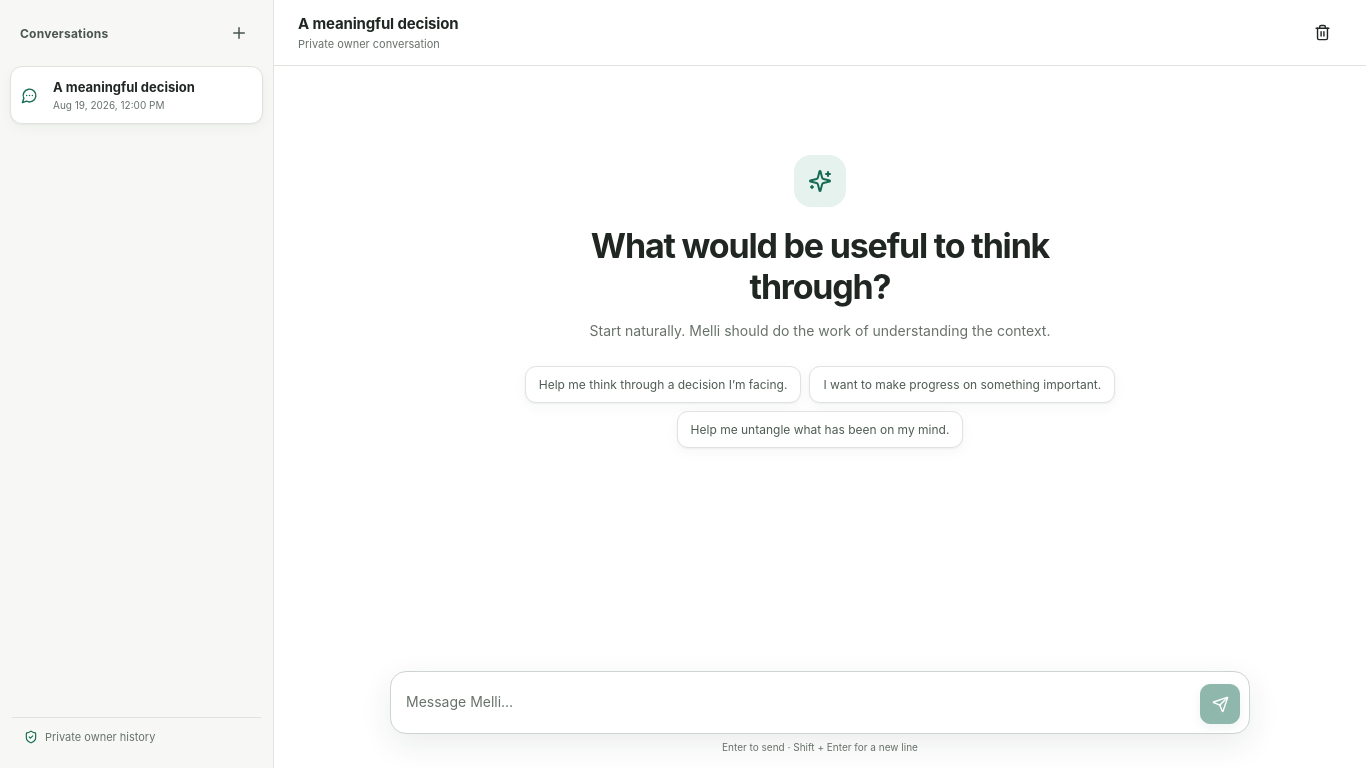
Test: ConversationPage › opens ready for a real job without teaching the fixture or runtime
The width and height of the screenshot is (1366, 768).
Check: the heading "What would be useful to think through?" is shown, box x1=591 y1=225 x2=1049 y2=307
Click the button "Help me think through a decision I’m facing.". click: {"x": 663, "y": 384}
box: x1=525 y1=366 x2=801 y2=403
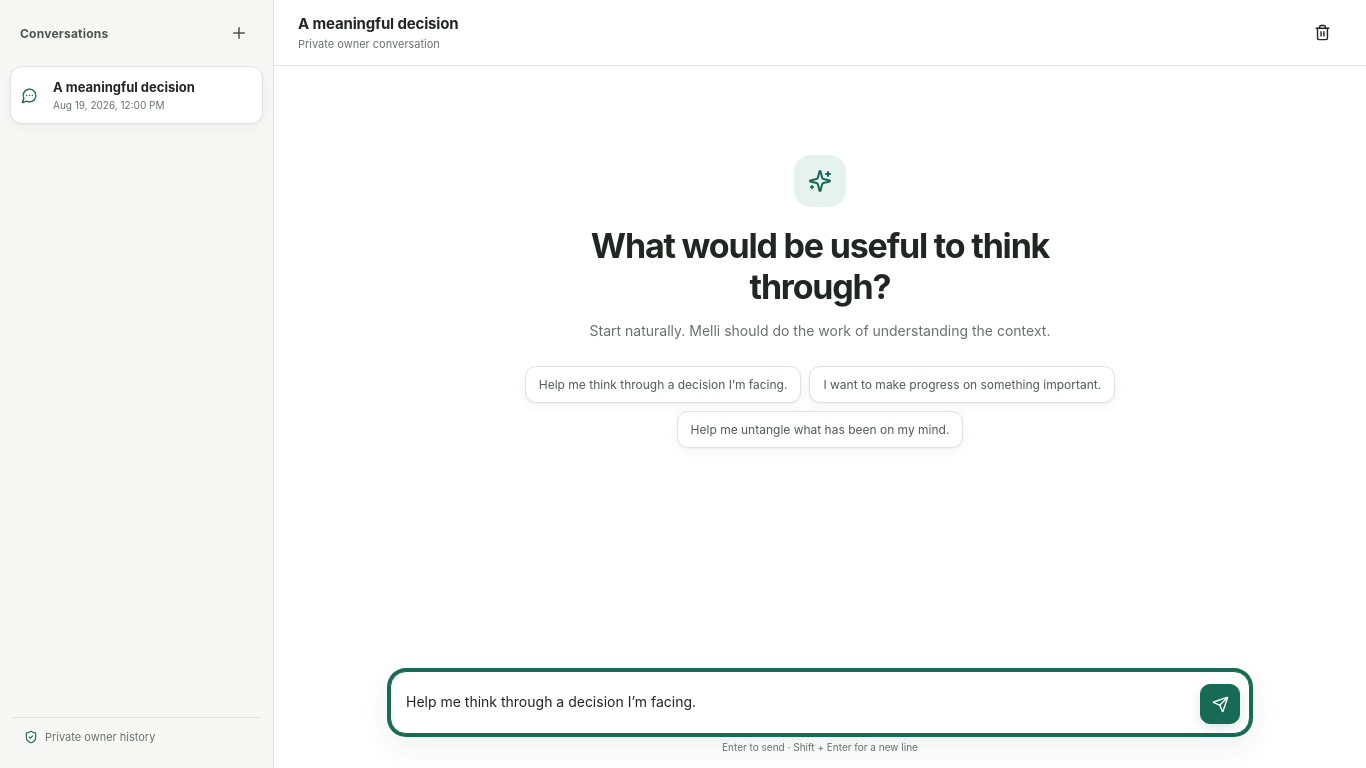
Check: the text box named "Message Melli" holds "Help me think through a decision I’m facing.", box x1=406 y1=681 x2=1190 y2=724
